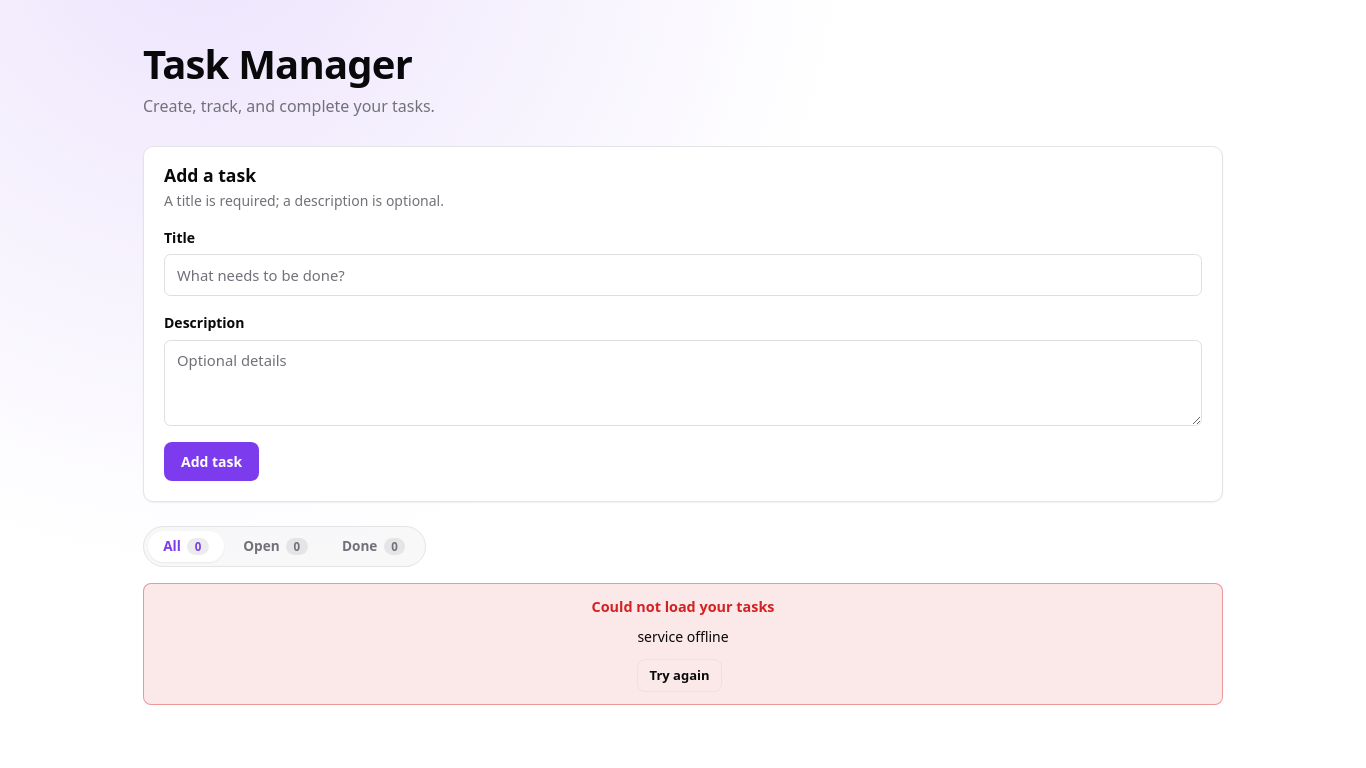
Scenario: App › shows an initial-load error with retry feedback
Expected: the text "Could not load your tasks" is shown, [592,596,774,618]
Expected: the text "service offline" is shown, [637,626,729,647]
Click the button "Try again".
click(680, 675)  # box [637,659,722,692]
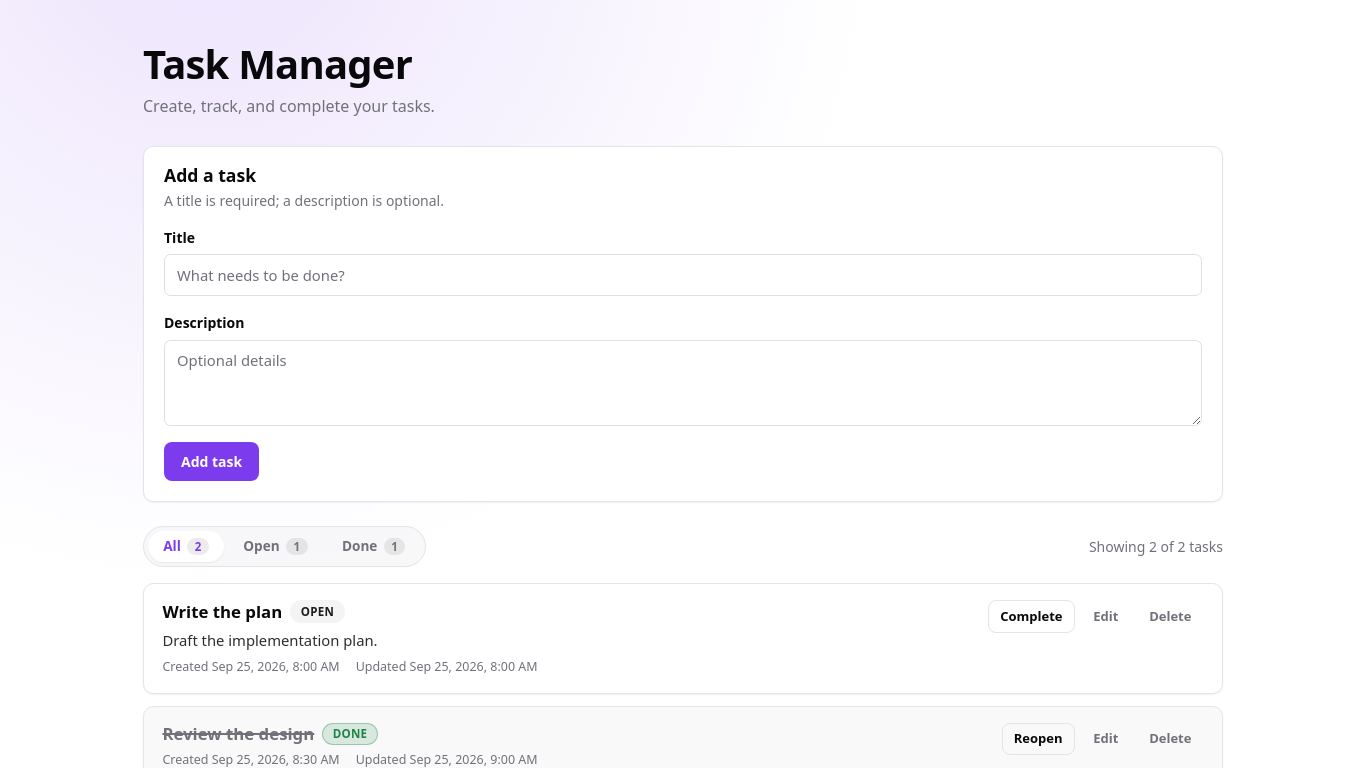
Result: the heading "Write the plan" is shown at [162,602,282,622]
Result: the text "Could not load your tasks" is gone
